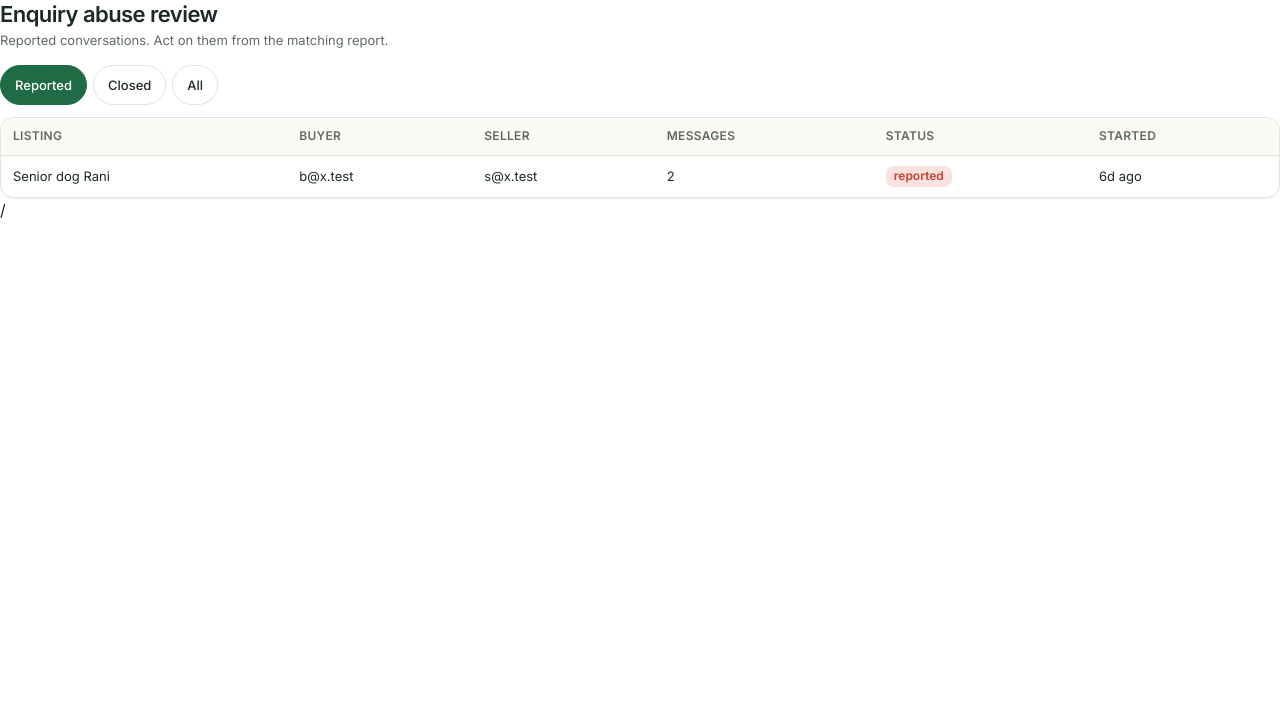
Test: admin abuse review › renders the real row shape and the transcript with sender labels
Click the text "Senior dog Rani". click: [61, 176]
box: [1,156,287,197]
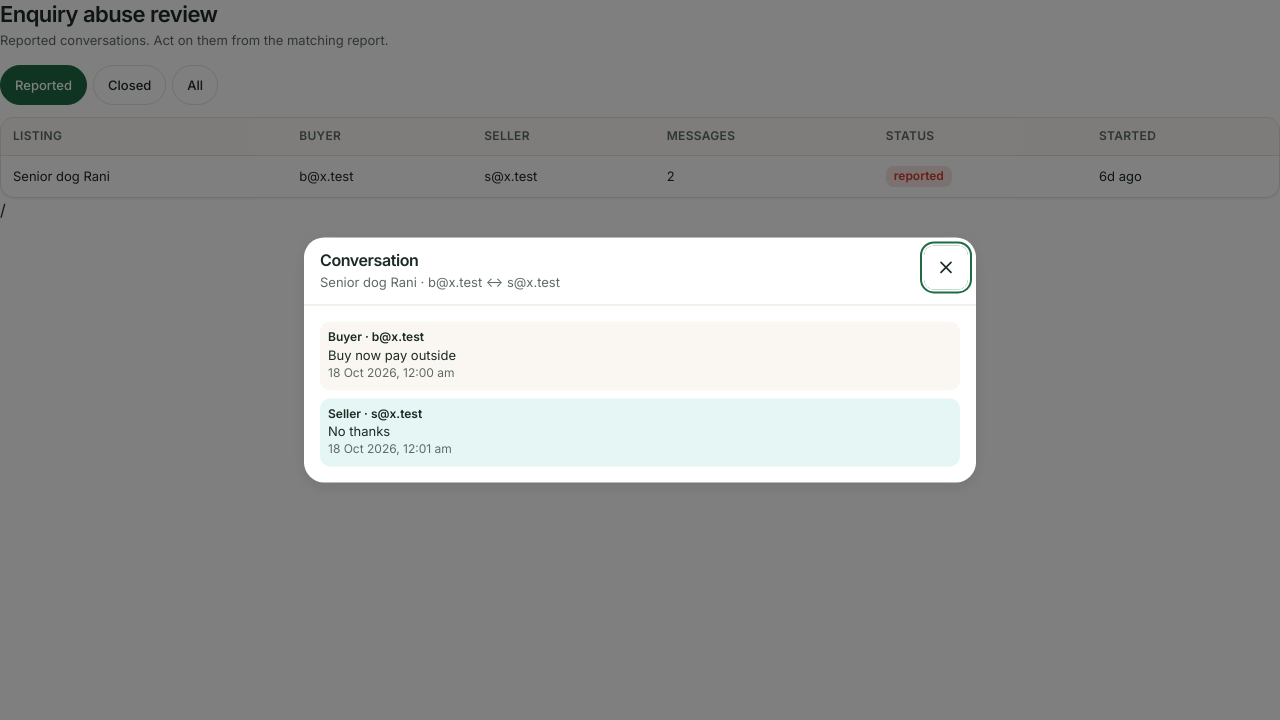
Expected: the text "Buy now pay outside" is shown, [328,348,456,364]
Expected: the text "Seller · s@x.test" is shown, [328,406,422,421]
